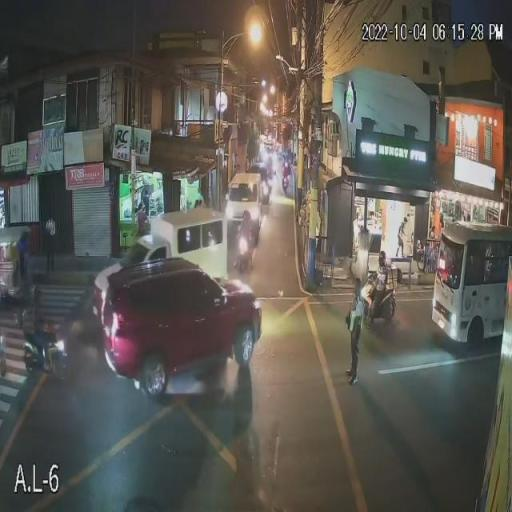helmet: (240, 210, 250, 219), (378, 250, 386, 261)
motorcycle: (14, 324, 70, 382), (358, 273, 399, 330), (232, 228, 255, 274)
rider: (368, 250, 390, 316), (236, 210, 257, 248)
